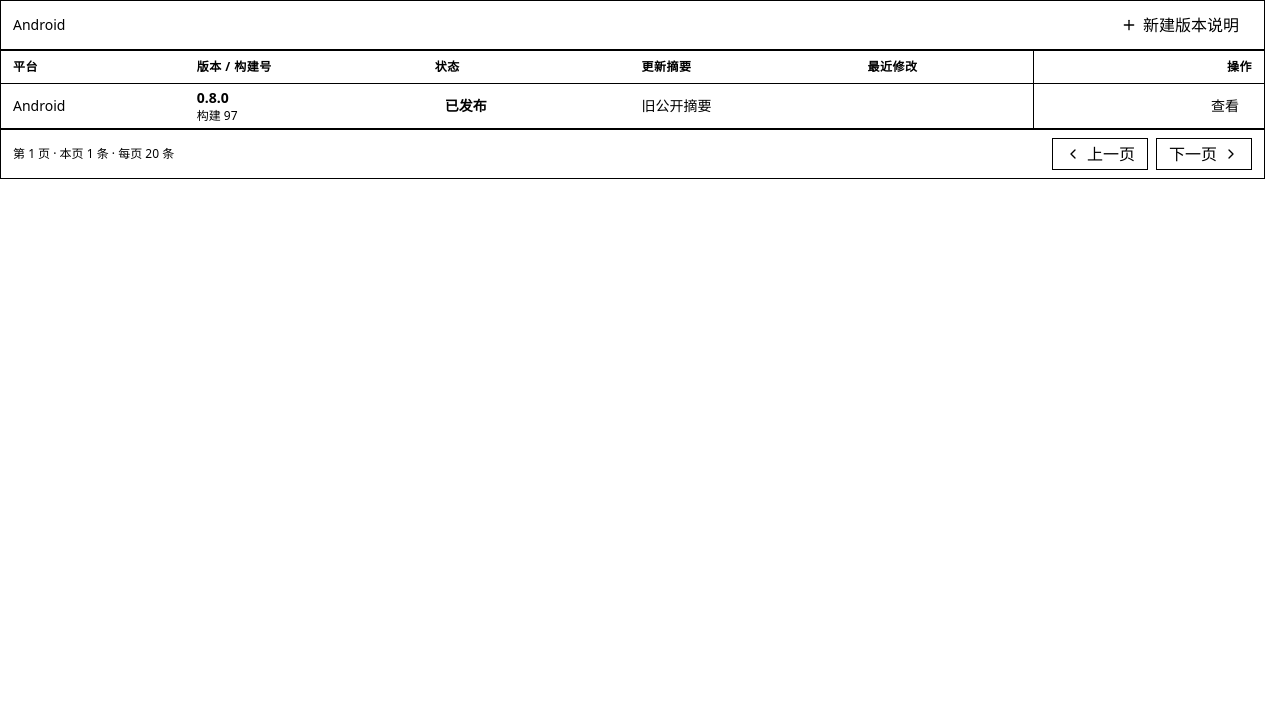
移动端版本管理（真实 hooks 与表单，模拟 API） › 普通管理员只能查看已发布说明
Click the button "查看" at (1225, 106), box left=1198, top=90, right=1252, bottom=122
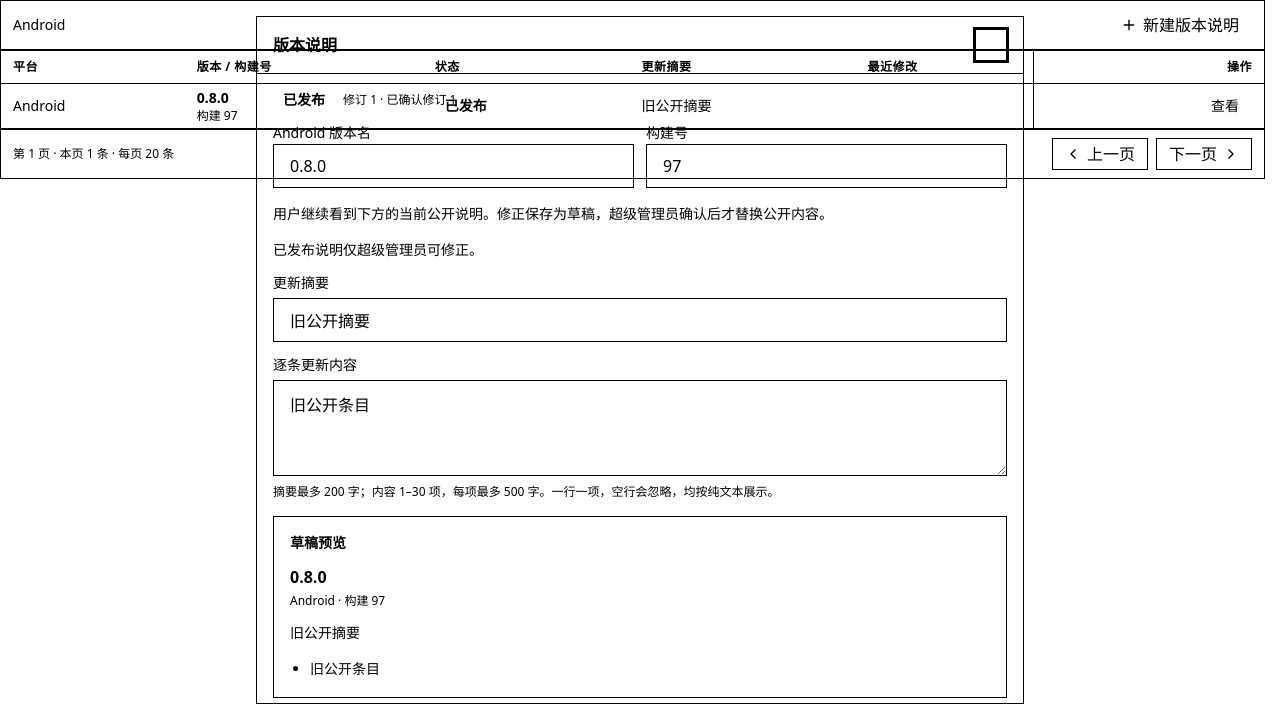
Expected: the field showing "0.8.0" is shown, left=273, top=144, right=634, bottom=188
Expected: the field labelled "更新摘要" is disabled, left=273, top=298, right=1007, bottom=342
